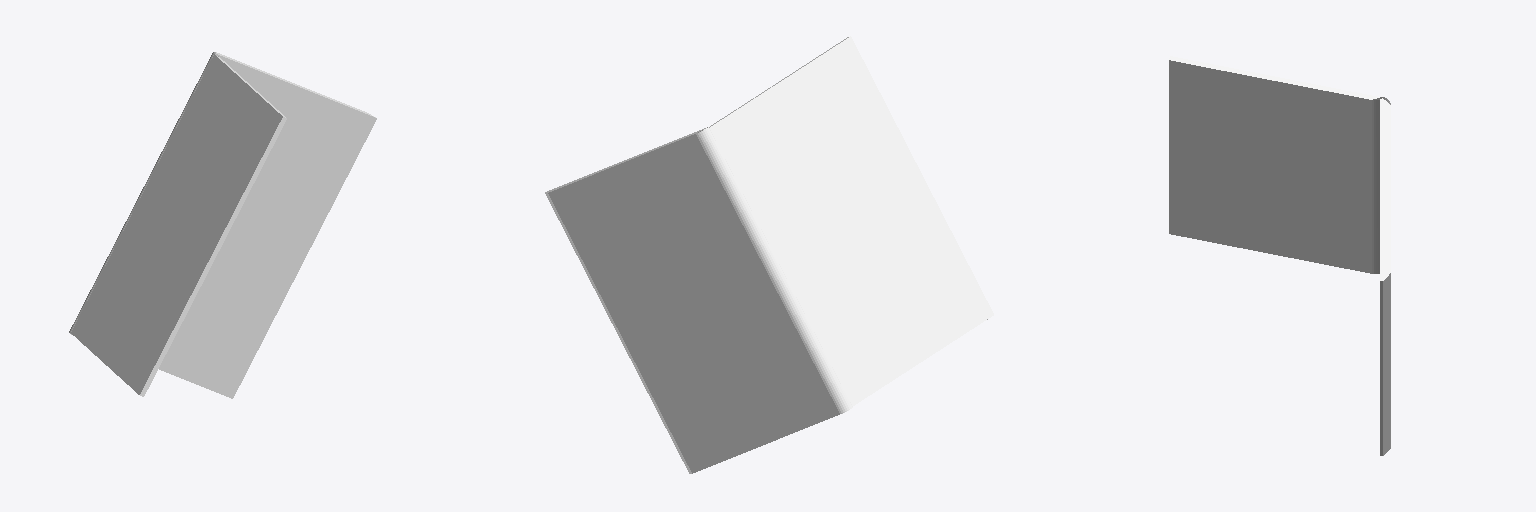
The model's file is asus_nout.obj.
3 renders of one model, left to right at view 1: azimuth 30°, elevation 25°; view 2: azimuth 150°, elevation 25°; view 3: azimuth 270°, elevation 25°, orthographic.
Parts seen in each view (by area): view 1: Designer111; view 2: Designer111; view 3: Designer111.
Boxes of the visible parts, box(x1,y1,x2,y2) form: Designer111: box(69, 52, 376, 398); Designer111: box(545, 36, 993, 473); Designer111: box(1169, 56, 1390, 455).
Bounding box in the file's own units: 49.73 × 51.67 × 27.93.